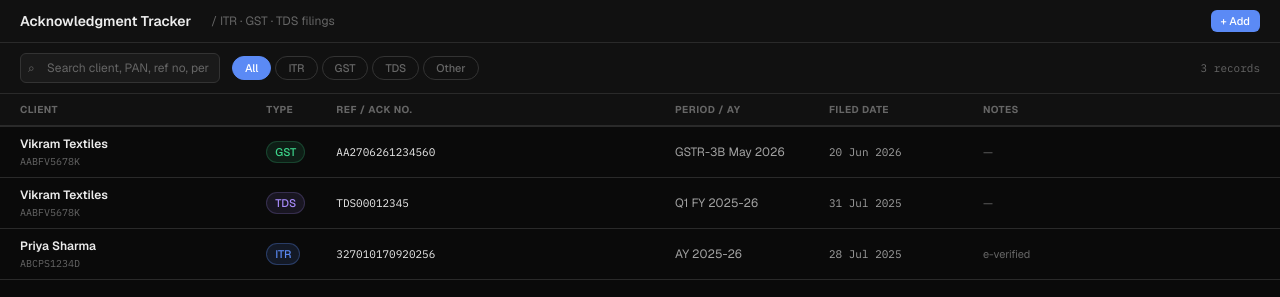
Test case: AcknowledgmentPage — type filter › GST filter shows only GST records
This screenshot has width=1280, height=297.
Click the button "GST": (345, 68) [322,56,368,80]
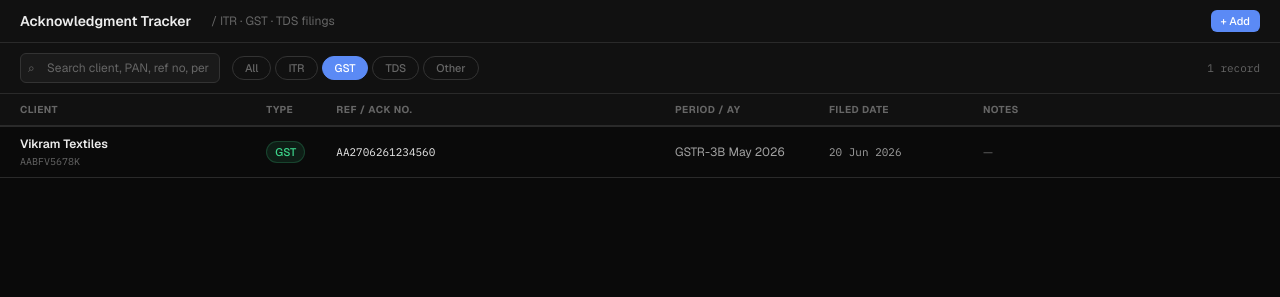
Check: the text "Vikram Textiles" is shown, box [20,136,108,152]
Check: the text "1 record" is shown, box [1207,60,1260,76]
